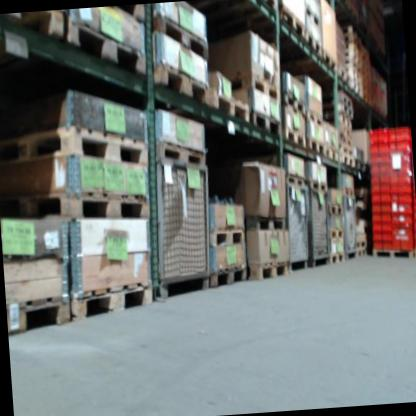pallet: (0, 119, 150, 178), (0, 181, 152, 232), (63, 7, 149, 82), (69, 279, 155, 323), (152, 59, 214, 111), (151, 9, 209, 64), (6, 294, 70, 337), (0, 10, 64, 48), (224, 67, 281, 106), (209, 85, 251, 127), (155, 135, 206, 169), (278, 1, 306, 43), (247, 107, 283, 139), (208, 263, 249, 290), (247, 259, 290, 282), (244, 212, 289, 233), (208, 226, 246, 249), (371, 246, 415, 264), (280, 90, 308, 118), (282, 125, 308, 151), (305, 28, 323, 59), (252, 0, 278, 18), (306, 136, 327, 158), (304, 1, 321, 28), (321, 49, 338, 75), (306, 109, 324, 129), (285, 171, 306, 188), (306, 178, 327, 192), (327, 226, 345, 242), (329, 250, 346, 266), (327, 202, 342, 217), (325, 146, 339, 162), (343, 186, 355, 198), (339, 115, 353, 125), (355, 239, 367, 249), (340, 107, 355, 115), (340, 92, 352, 101), (356, 248, 369, 255), (340, 127, 352, 134), (345, 156, 354, 165), (339, 102, 352, 108), (342, 146, 353, 153), (340, 124, 354, 128), (341, 141, 350, 147), (340, 137, 350, 142), (340, 133, 352, 137), (339, 114, 355, 116)
small_load_carrier: (390, 223, 414, 253), (389, 202, 415, 216), (368, 140, 391, 154), (387, 126, 410, 139), (368, 128, 390, 141), (391, 215, 416, 226), (370, 202, 392, 214), (369, 193, 392, 204), (390, 192, 413, 203), (390, 138, 411, 150), (373, 239, 391, 253), (371, 162, 390, 175), (369, 173, 391, 184), (370, 152, 391, 163), (370, 183, 392, 193), (371, 231, 393, 241), (373, 213, 392, 224), (372, 222, 392, 232)
stillage: (147, 151, 223, 301), (275, 179, 315, 274), (305, 186, 338, 270), (338, 191, 364, 264)
